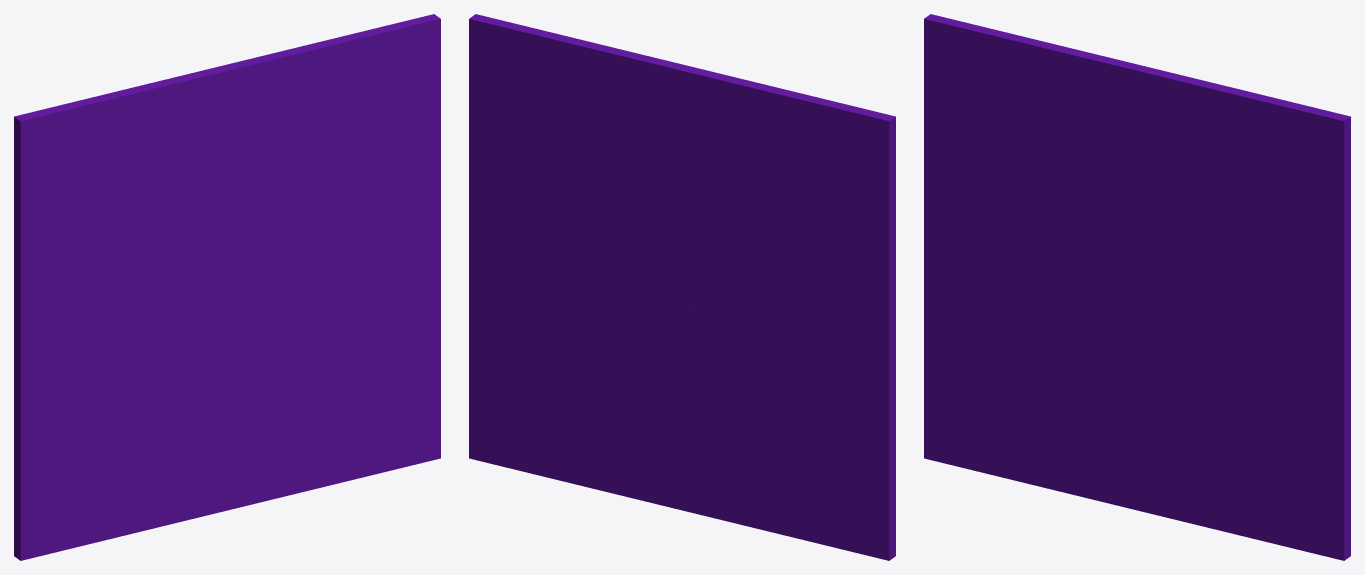
File: MemorialFrame_3.008_chunks.fbx
The picture shows the model from 3 angles, left to right: view 1: azimuth 30°, elevation 25°; view 2: azimuth 150°, elevation 25°; view 3: azimuth 330°, elevation 25°; orthographic projection.
Parts seen in each view (by area): view 1: MemorialFrame_3.008_0, MemorialFrame_3.008_1, MemorialFrame_3.008_8, MemorialFrame_3.008_5, MemorialFrame_3.008_2, MemorialFrame_3.008_3, MemorialFrame_3.008_7, MemorialFrame_3.008_10, MemorialFrame_3.008_11, MemorialFrame_3.008_9; view 2: MemorialFrame_3.008_0, MemorialFrame_3.008_8, MemorialFrame_3.008_1, MemorialFrame_3.008_3, MemorialFrame_3.008_5, MemorialFrame_3.008_2, MemorialFrame_3.008_7, MemorialFrame_3.008_10, MemorialFrame_3.008_11, MemorialFrame_3.008_9, MemorialFrame_3.008_6, MemorialFrame_3.008_12; view 3: MemorialFrame_3.008_0, MemorialFrame_3.008_1, MemorialFrame_3.008_8, MemorialFrame_3.008_5, MemorialFrame_3.008_2, MemorialFrame_3.008_7, MemorialFrame_3.008_3, MemorialFrame_3.008_10, MemorialFrame_3.008_11, MemorialFrame_3.008_9.
Boxes of the visible parts, <box> form: MemorialFrame_3.008_0: <box>209,244,440,514</box>; MemorialFrame_3.008_1: <box>14,285,239,560</box>; MemorialFrame_3.008_8: <box>249,14,440,184</box>; MemorialFrame_3.008_5: <box>152,59,298,285</box>; MemorialFrame_3.008_2: <box>41,83,207,255</box>; MemorialFrame_3.008_3: <box>14,239,225,491</box>; MemorialFrame_3.008_7: <box>227,183,440,290</box>; MemorialFrame_3.008_10: <box>14,224,129,469</box>; MemorialFrame_3.008_11: <box>14,110,110,244</box>; MemorialFrame_3.008_9: <box>14,211,70,455</box>; MemorialFrame_3.008_0: <box>469,237,719,519</box>; MemorialFrame_3.008_8: <box>469,14,662,179</box>; MemorialFrame_3.008_1: <box>691,312,895,560</box>; MemorialFrame_3.008_3: <box>677,239,895,496</box>; MemorialFrame_3.008_5: <box>611,59,763,284</box>; MemorialFrame_3.008_2: <box>694,84,868,253</box>; MemorialFrame_3.008_7: <box>469,200,677,285</box>; MemorialFrame_3.008_10: <box>784,223,895,472</box>; MemorialFrame_3.008_11: <box>800,110,895,241</box>; MemorialFrame_3.008_9: <box>849,207,895,450</box>; MemorialFrame_3.008_6: <box>469,176,619,203</box>; MemorialFrame_3.008_12: <box>836,209,891,269</box>; MemorialFrame_3.008_0: <box>1112,296,1350,560</box>; MemorialFrame_3.008_1: <box>924,282,1143,504</box>; MemorialFrame_3.008_8: <box>1157,71,1350,286</box>; MemorialFrame_3.008_5: <box>1056,47,1201,283</box>; MemorialFrame_3.008_2: <box>951,20,1111,228</box>; MemorialFrame_3.008_7: <box>1130,217,1350,346</box>; MemorialFrame_3.008_3: <box>924,206,1128,374</box>; MemorialFrame_3.008_10: <box>924,165,1032,367</box>; MemorialFrame_3.008_11: <box>924,14,1014,166</box>; MemorialFrame_3.008_9: <box>924,109,974,353</box>.
Size of the model in its own units: 797 by 797 by 21.54.
